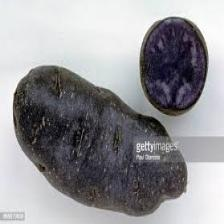Damaged potato: (7, 64, 188, 218), (138, 16, 212, 119)
